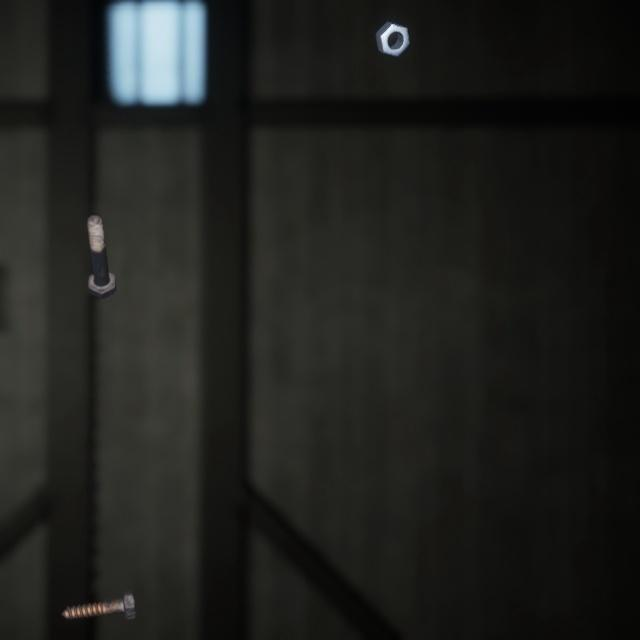bolt: (82, 194, 120, 287), (57, 563, 140, 601)
nut: (371, 9, 414, 53)
